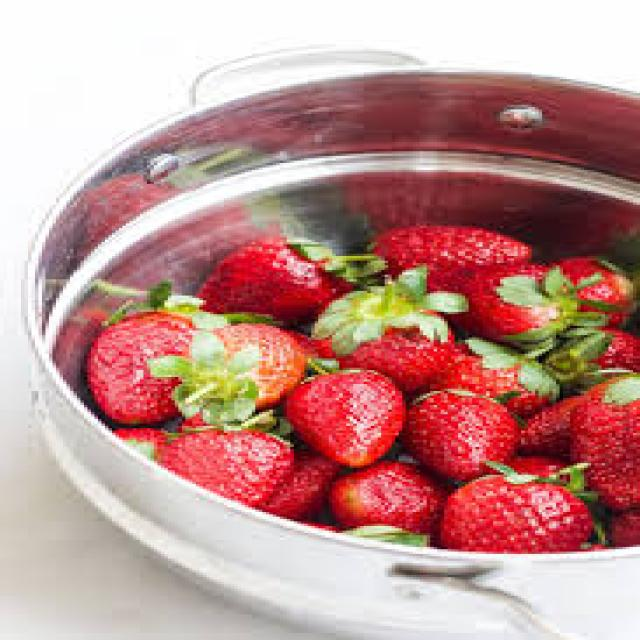strawberry: (194, 236, 354, 324), (86, 313, 207, 425), (437, 468, 595, 552), (282, 370, 403, 468), (402, 389, 518, 483), (307, 332, 342, 362)
